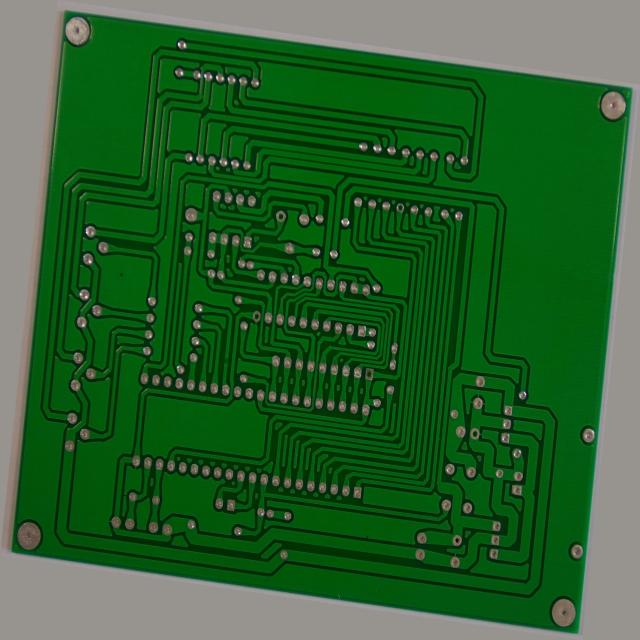missing_hole: (386, 169, 403, 188), (258, 199, 275, 216), (371, 364, 387, 382), (493, 414, 508, 431), (243, 317, 257, 332)
